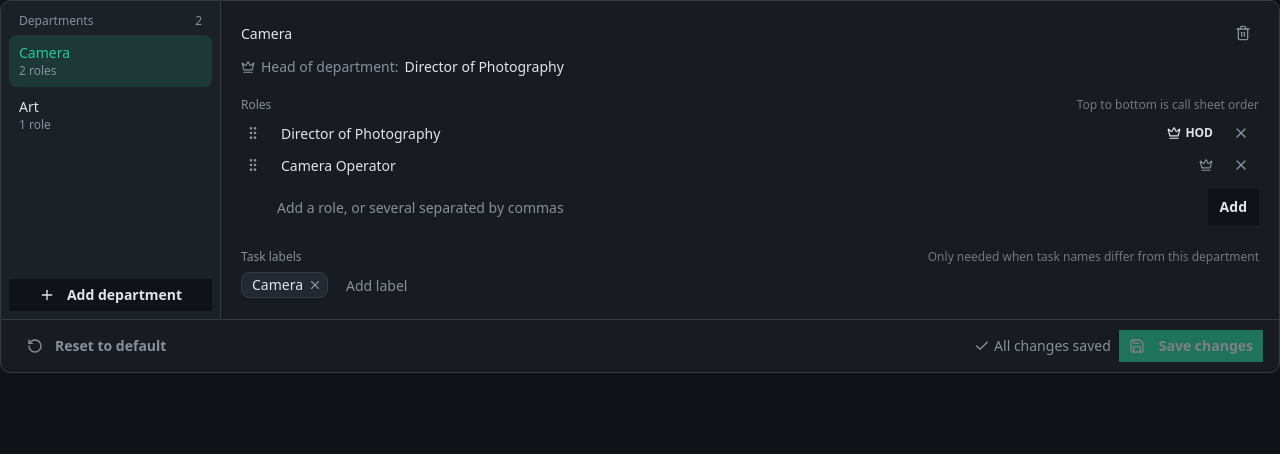
Scenario: CrewStructureEditor › adds several roles from a comma separated list
Expected: the field named "Department name" is shown, [233,13,1219,53]
Type "Gaffer, Best Boy" into the field named "New role".
click(732, 207); type("Gaffer, Best Boy")  # box [265,189,1200,225]
Then press Enter
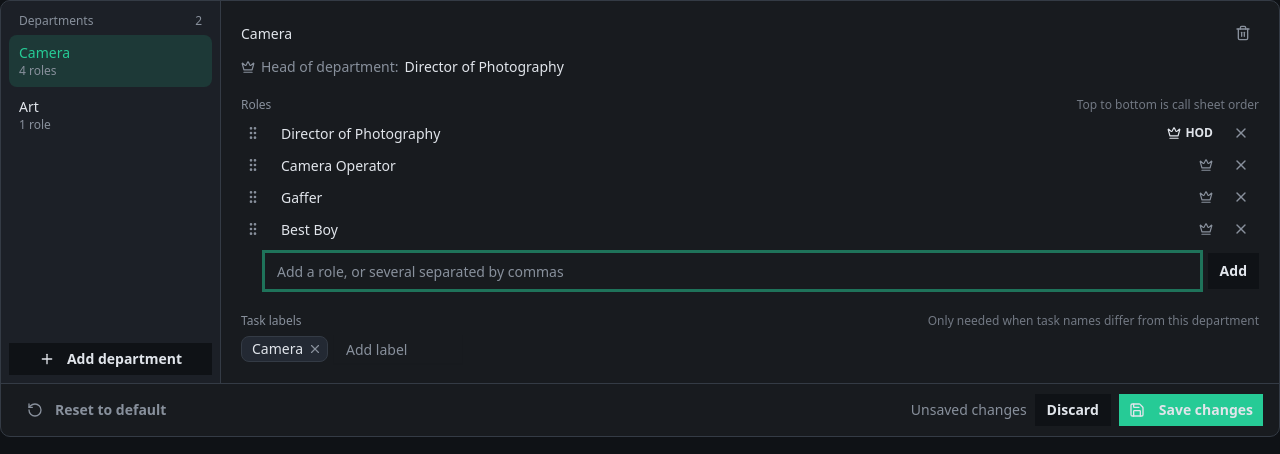
Expected: the number of fields named "Role name" is 4, [269,117,1153,149]; [269,149,1185,181]; [269,181,1185,213]; [269,213,1185,245]
Expected: the text "4 roles" is shown, [19,62,57,79]
